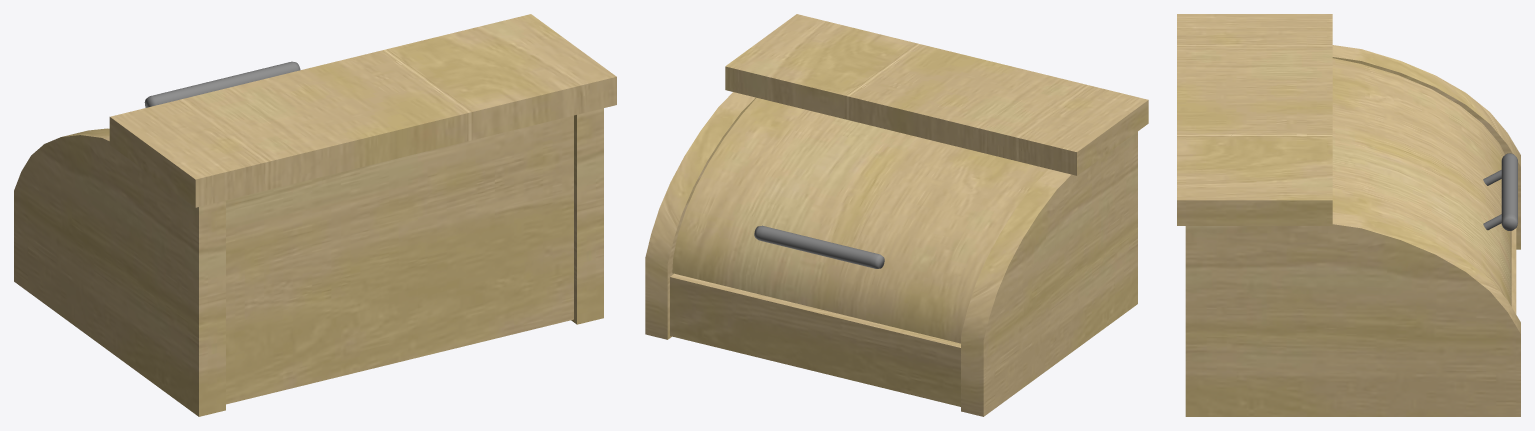
The model's file is BreadBox.fbx.
3 views of the same model, side by side, from view 1: azimuth 30°, elevation 25°; view 2: azimuth 150°, elevation 25°; view 3: azimuth 270°, elevation 25° (orthographic). The views are drawn at different scales.
Visible parts, largest first — view 1: Breadbox, Handle; view 2: Breadbox, Hinge, Handle; view 3: Breadbox, Hinge, Handle.
Part boxes in pixels (bbox=[...]): Breadbox: bbox=[14, 14, 616, 416]; Handle: bbox=[144, 61, 300, 107]; Breadbox: bbox=[645, 14, 1148, 416]; Hinge: bbox=[672, 98, 1048, 343]; Handle: bbox=[754, 225, 884, 268]; Breadbox: bbox=[1177, 14, 1520, 416]; Hinge: bbox=[1332, 58, 1511, 306]; Handle: bbox=[1483, 153, 1517, 230].
Bounding box in the file's own units: 312 × 172 × 243.
